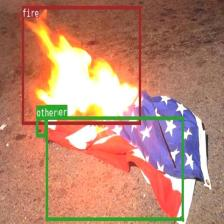fire: (22, 5, 140, 125)
